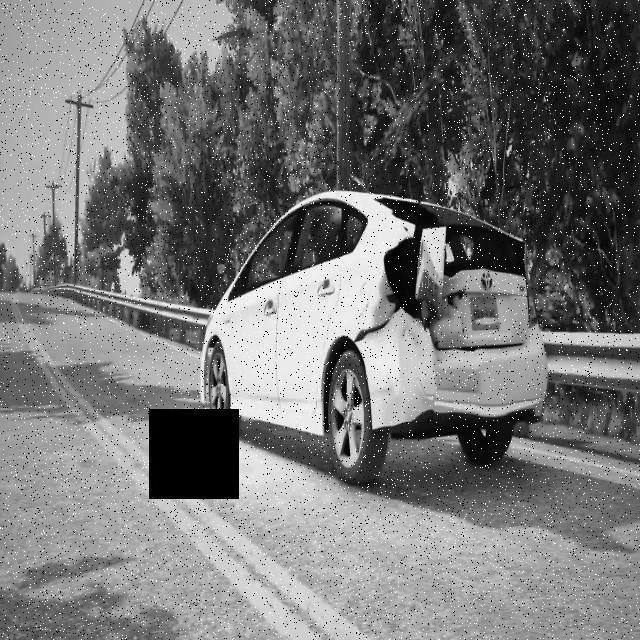accident: (195, 185, 555, 484)
